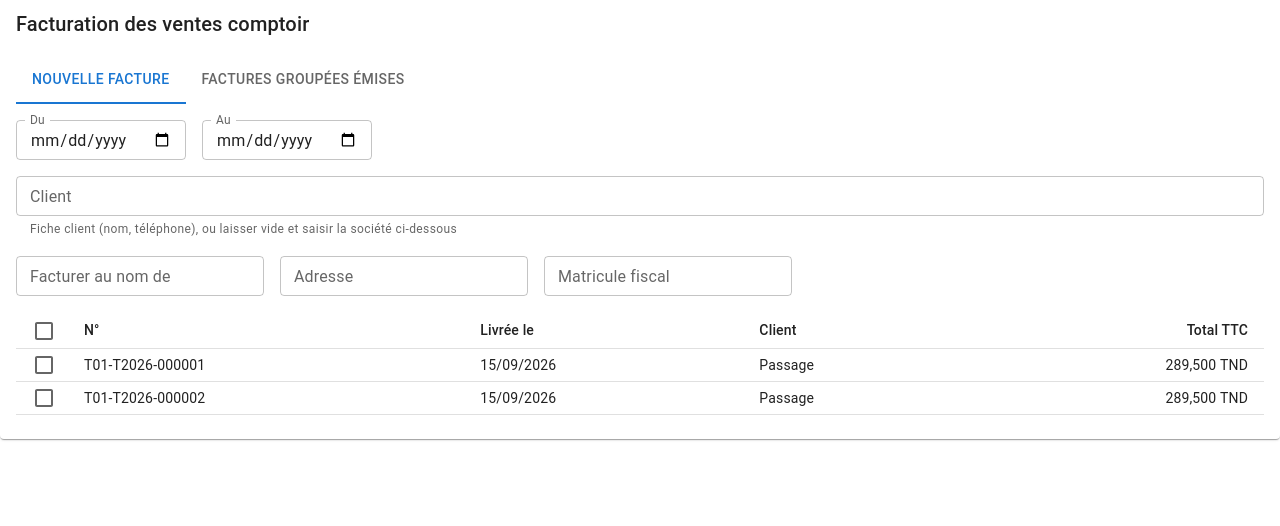
Scenario: facture ensemble des ventes comptoir au nom d'une société
The width and height of the screenshot is (1280, 526).
Click the checkbox named "Tout cocher" at (44, 330), box [32,318,56,342]
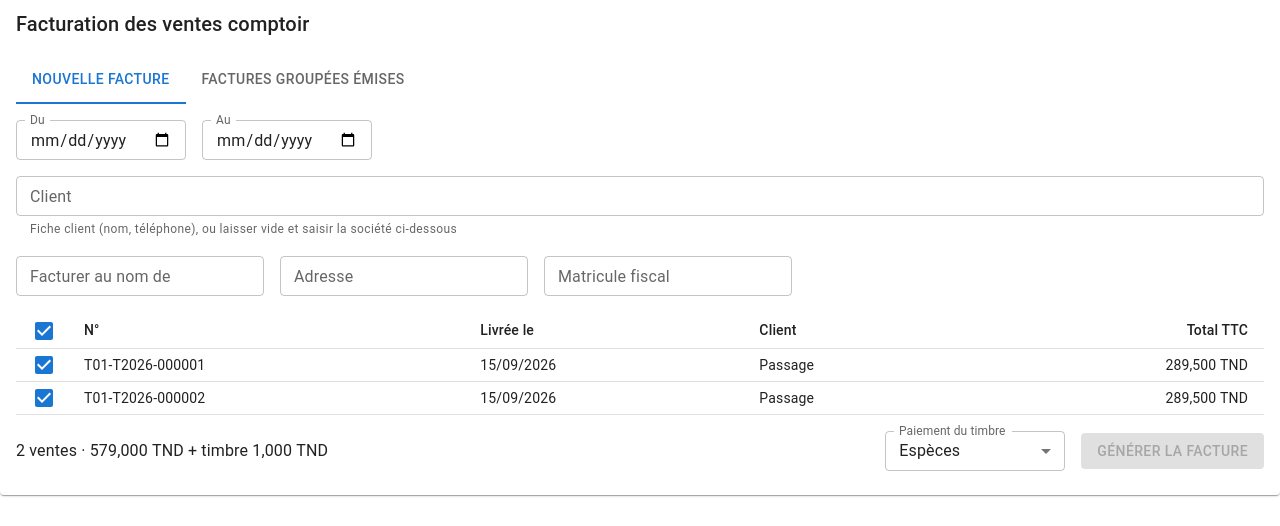
Expected: the text "2 ventes · 579,000 TND + timbre 1,000 TND" is shown, [16,441,328,460]
Expected: the button "Générer la facture" is disabled, [1081,433,1264,469]
Type "Lumière" into the field labelled "Facturer au nom de" at (140, 276), box [16,256,264,296]
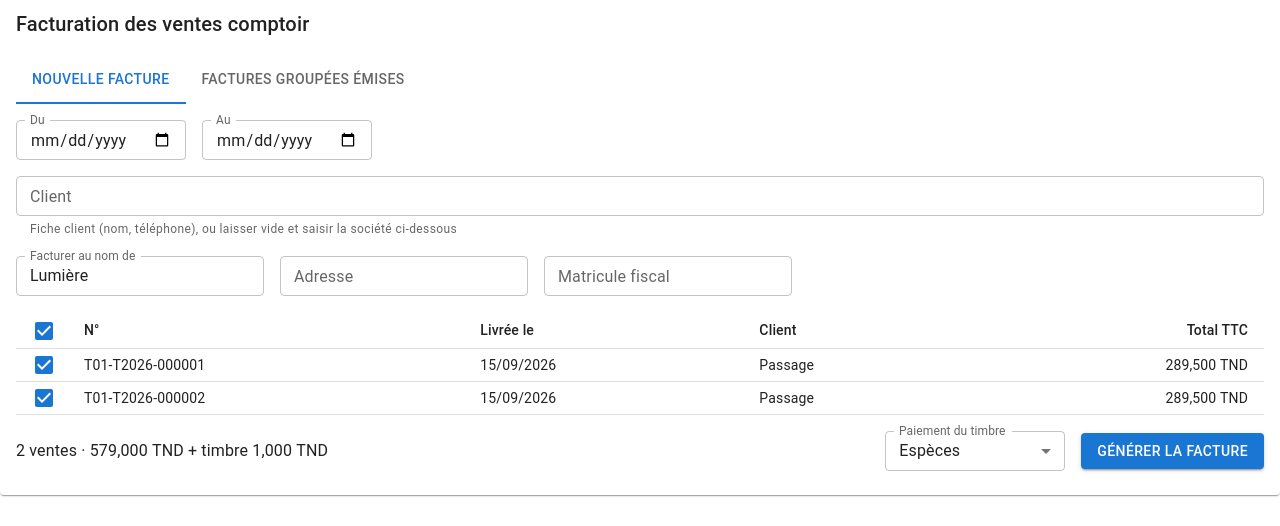
Type "1234567A" into the field labelled "Matricule fiscal" at (668, 276), box [544,256,792,296]
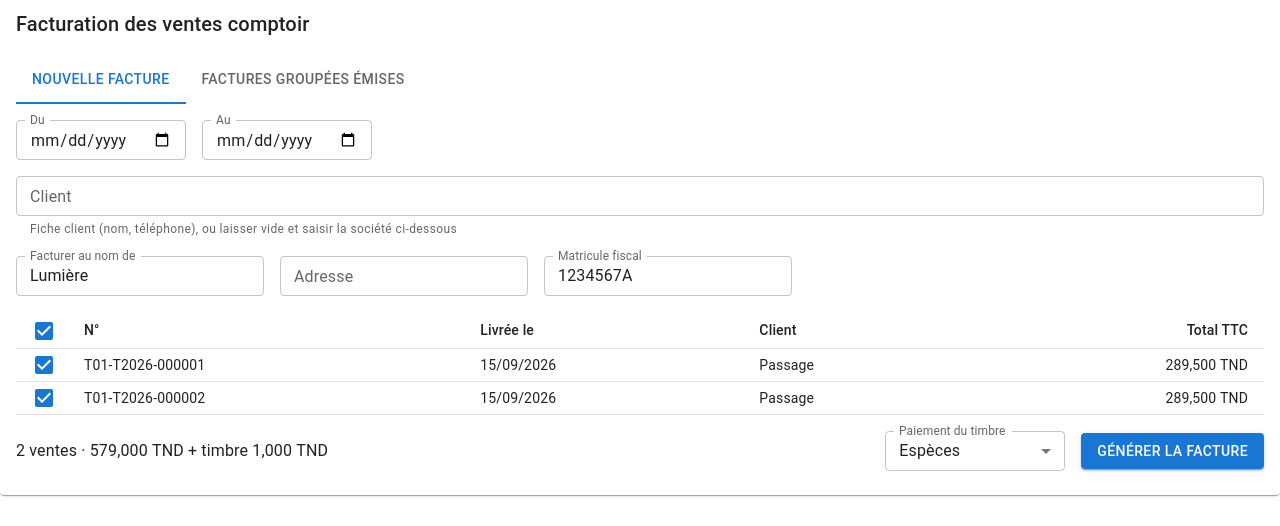
Click the button "Générer la facture" at (1173, 451), box [1081,433,1264,469]
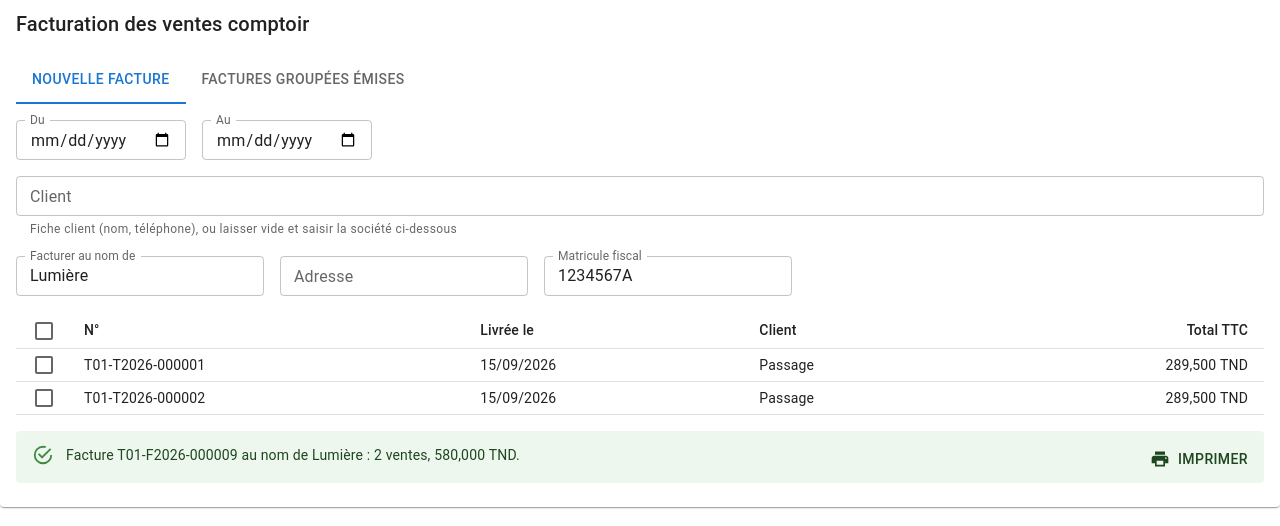
Expected: the text "Facture T01-F2026-000009 au nom de Lumière" is shown, [66,447,520,463]
